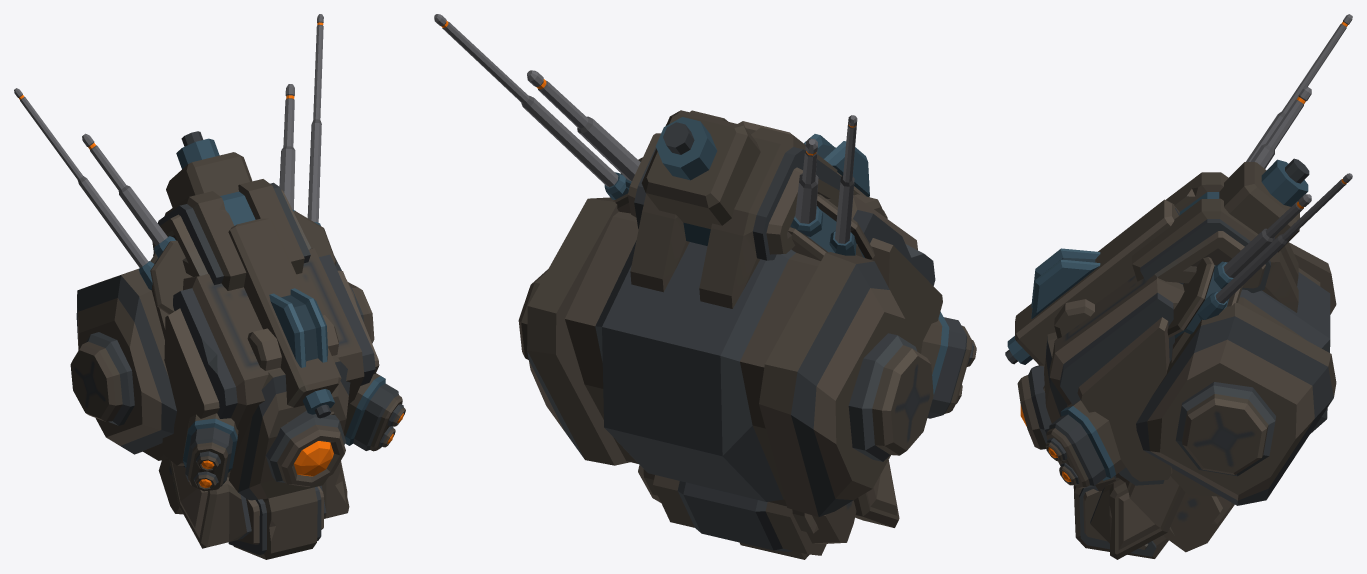
Rendered from SM_Mech_Head_01_Armor_Helmet_05.fbx.
3 renders of one model, left to right at view 1: azimuth 30°, elevation 25°; view 2: azimuth 150°, elevation 25°; view 3: azimuth 270°, elevation 25°, orthographic. The views are drawn at different scales.
Parts seen in each view (by area): view 1: SM_Mech_Head_01_Armor_Helmet_05; view 2: SM_Mech_Head_01_Armor_Helmet_05; view 3: SM_Mech_Head_01_Armor_Helmet_05.
Boxes of the visible parts, box(x1,y1,x2,y2) form: SM_Mech_Head_01_Armor_Helmet_05: box(14, 14, 405, 559); SM_Mech_Head_01_Armor_Helmet_05: box(434, 14, 976, 559); SM_Mech_Head_01_Armor_Helmet_05: box(1005, 14, 1352, 559).
Bounding box in the file's own units: 71.1 × 93.02 × 64.43.
